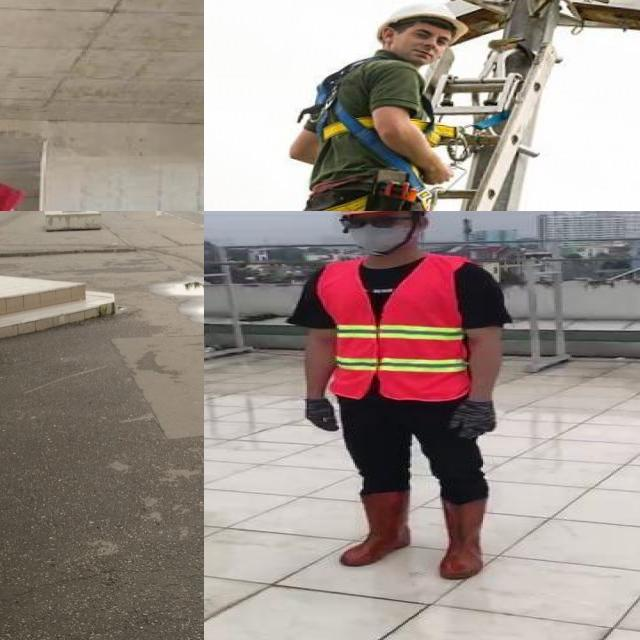Harness: (303, 58, 412, 174)
boots: (338, 489, 413, 567), (436, 495, 494, 579)
face_mask: (336, 211, 409, 251)
glasses: (337, 212, 408, 232)
hand_glove: (447, 401, 499, 442), (306, 399, 344, 431)
person: (290, 211, 510, 585)
vest: (316, 253, 470, 400)
